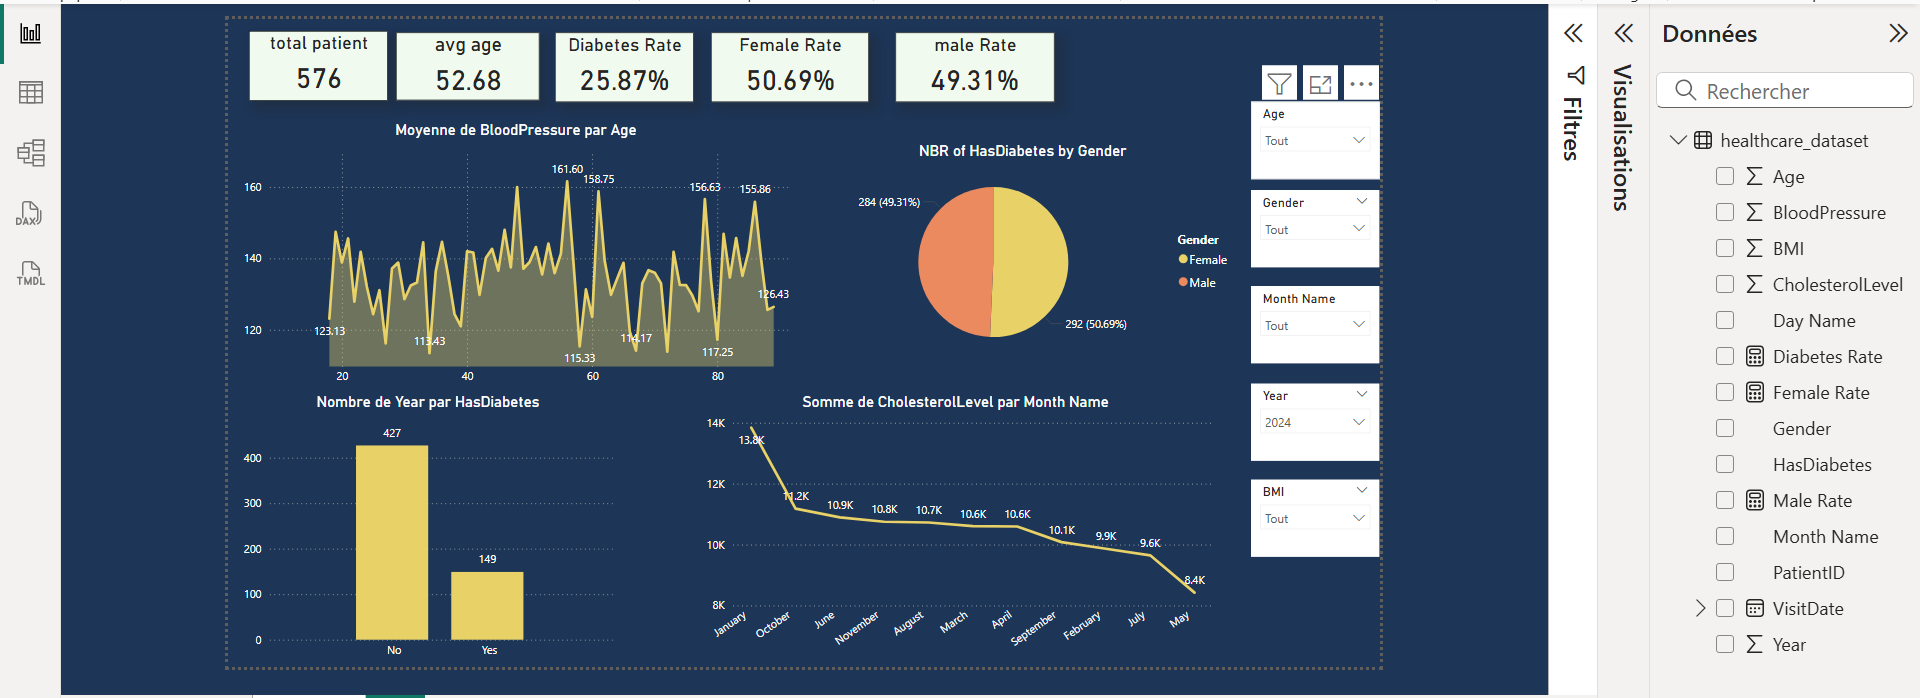

This screenshot's page, from the dashboard's own definition file:
{"tool":"powerbi","page":{"name":"Page 1","canvas":[1280,720],"ordinal":0},"visuals":[{"type":"card","title":"total  patient","fields":{"Values":["Count(healthcare_dataset.PatientID)"]},"box":[23.1,13.3,154.3,77.1],"z":0},{"type":"card","title":"avg age","fields":{"Values":["Avg(healthcare_dataset.Age)"]},"box":[186.2,15.1,159.6,75.4],"z":1000},{"type":"card","title":"Diabetes Rate","fields":{"Values":["healthcare_dataset.Diabetes Rate"]},"box":[363.5,15.1,154.3,77.1],"z":2000},{"type":"card","title":"Female Rate","fields":{"Values":["healthcare_dataset.Female Rate"]},"box":[536.5,15.1,175.6,77.1],"z":3000},{"type":"card","title":"male Rate","fields":{"Values":["healthcare_dataset.Male Rate"]},"box":[742.2,15.1,176.5,77.1],"z":4000},{"type":"slicer","fields":{"Values":["healthcare_dataset.Age"]},"box":[1137.2,92.4,142.3,86.3],"z":5000},{"type":"slicer","fields":{"Values":["healthcare_dataset.Gender"]},"box":[1137.2,189.3,142.3,86.3],"z":6000},{"type":"slicer","fields":{"Values":["healthcare_dataset.Month Name"]},"box":[1137.2,296.8,142.3,86.3],"z":7000},{"type":"slicer","fields":{"Values":["healthcare_dataset.Year"]},"box":[1137.2,404.3,142.3,86.3],"z":8000},{"type":"slicer","fields":{"Values":["healthcare_dataset.BMI"]},"box":[1137.2,511.8,142.3,86.3],"z":9000},{"type":"areaChart","fields":{"Category":["healthcare_dataset.Age"],"Y":["Avg(healthcare_dataset.BloodPressure)"]},"box":[12.1,113.6,616.3,301.3],"z":10000},{"type":"pieChart","title":"NBR of HasDiabetes by Gender","fields":{"Y":["CountNonNull(healthcare_dataset.HasDiabetes)"],"Category":["healthcare_dataset.Gender"]},"box":[640.5,136.3,486.1,246.8],"z":11000},{"type":"clusteredColumnChart","fields":{"Category":["healthcare_dataset.HasDiabetes"],"Y":["CountNonNull(healthcare_dataset.Year)"]},"box":[12.1,414.9,420.9,304.4],"z":12000},{"type":"lineChart","fields":{"Category":["healthcare_dataset.Month Name"],"Y":["Sum(healthcare_dataset.CholesterolLevel)"]},"box":[517.9,414.9,579.9,304.4],"z":13000}]}

Visuals, with their boxes on the page's 1280x720 design canvas (x1, y1, x2, y2). These are canvas units, not pixel positions in the 1920x698 screenshot, which may show the page scaled, cropped or inside an application window:
"total  patient" card: box(23, 13, 177, 90)
"avg age" card: box(186, 15, 346, 90)
"Diabetes Rate" card: box(364, 15, 518, 92)
"Female Rate" card: box(536, 15, 712, 92)
"male Rate" card: box(742, 15, 919, 92)
slicer - healthcare_dataset.Age: box(1137, 92, 1280, 179)
slicer - healthcare_dataset.Gender: box(1137, 189, 1280, 276)
slicer - healthcare_dataset.Month Name: box(1137, 297, 1280, 383)
slicer - healthcare_dataset.Year: box(1137, 404, 1280, 491)
slicer - healthcare_dataset.BMI: box(1137, 512, 1280, 598)
areaChart - healthcare_dataset.Age x Avg(healthcare_dataset.BloodPressure): box(12, 114, 628, 415)
"NBR of HasDiabetes by Gender" pieChart: box(640, 136, 1127, 383)
clusteredColumnChart - healthcare_dataset.HasDiabetes x CountNonNull(healthcare_dataset.Year): box(12, 415, 433, 719)
lineChart - healthcare_dataset.Month Name x Sum(healthcare_dataset.CholesterolLevel): box(518, 415, 1098, 719)
